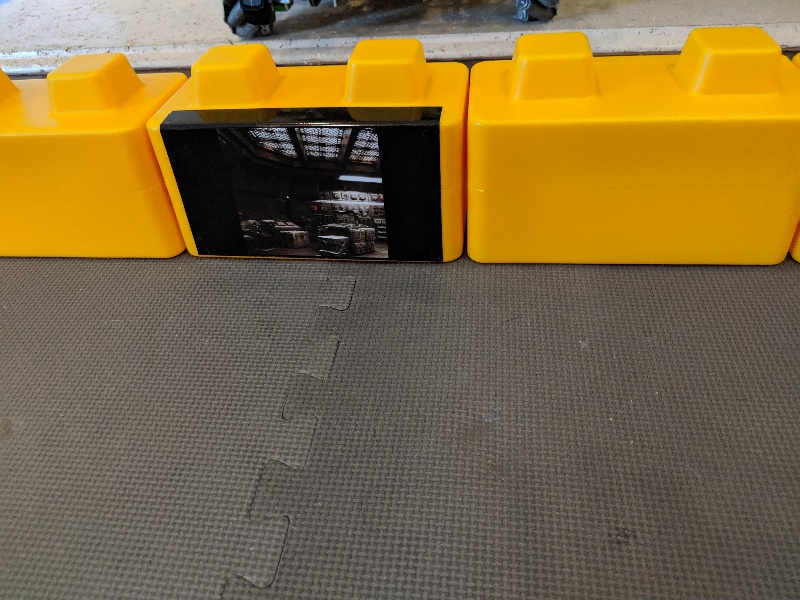Skystone: (156, 98, 452, 273)
